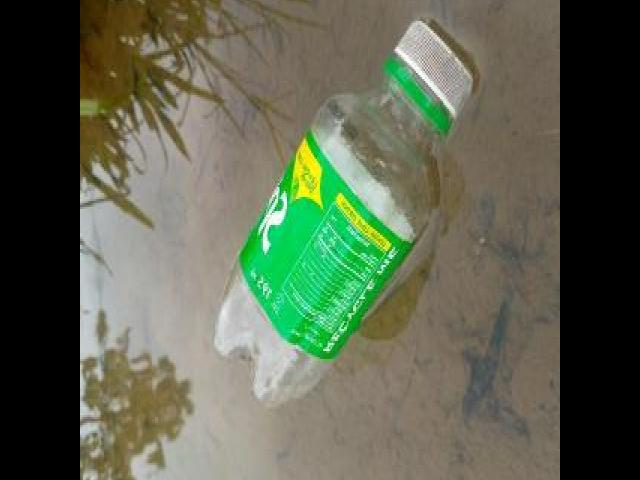Bottle: (212, 11, 479, 414)
